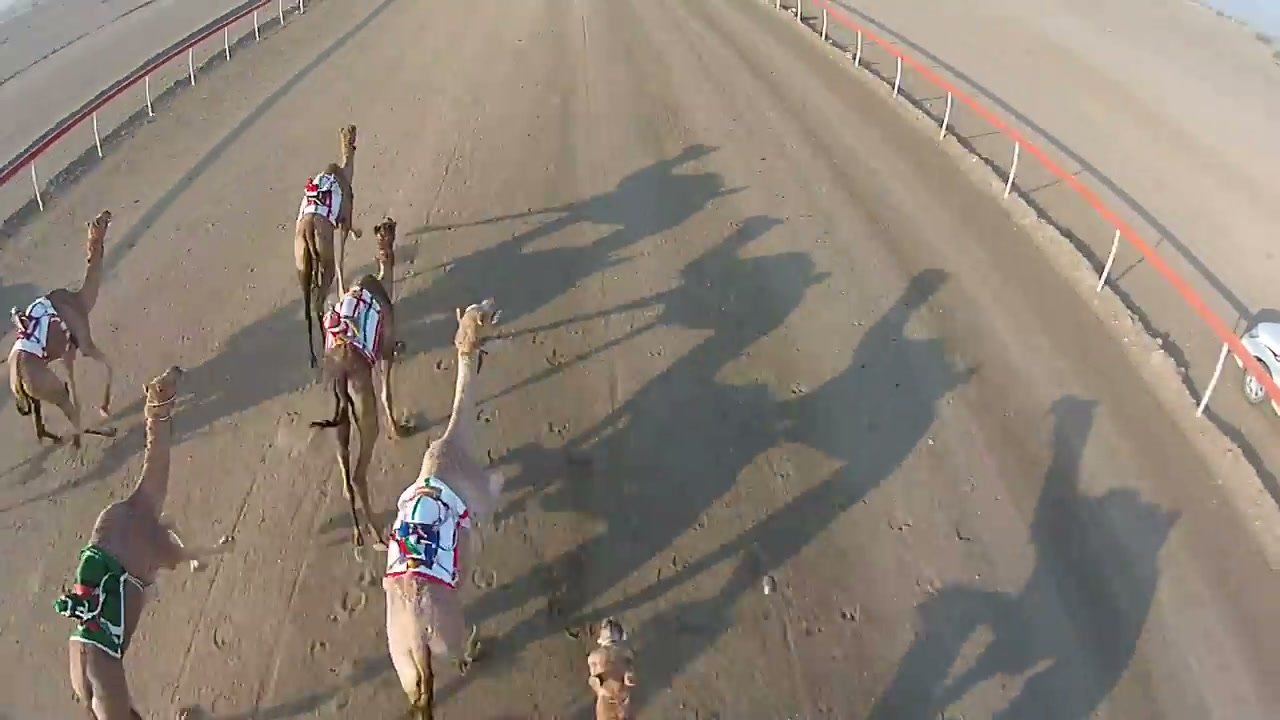animal_footprint: (462, 297, 589, 615), (289, 558, 397, 688)
